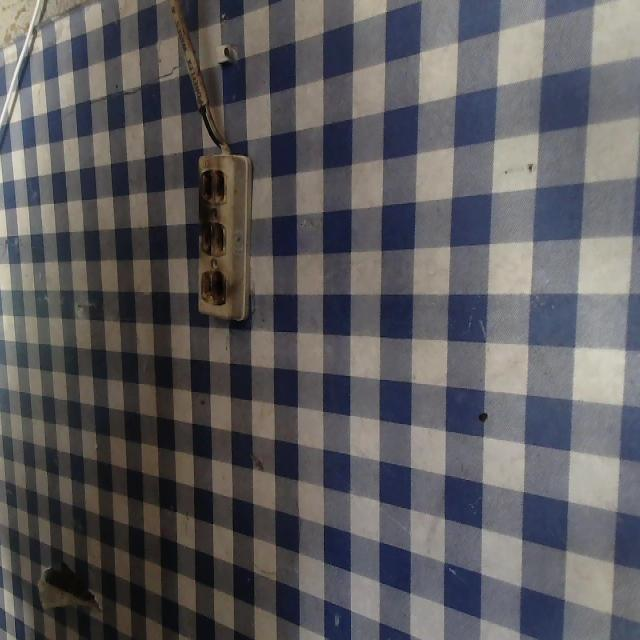-: (190, 215, 230, 253), (195, 161, 231, 203), (197, 267, 233, 309)
